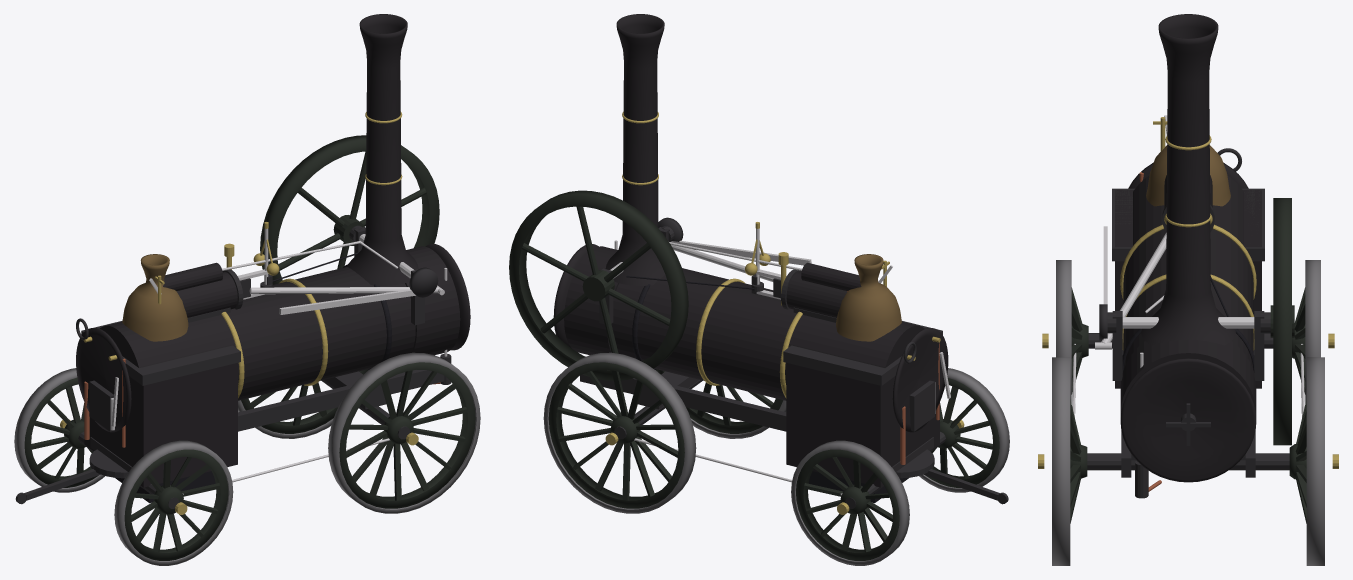
3 renders of one model, left to right at view 1: azimuth 30°, elevation 25°; view 2: azimuth 150°, elevation 25°; view 3: azimuth 270°, elevation 25°, orthographic. The views are drawn at different scales.
Parts seen in each view (by area): view 1: BoilerBarrel, SmokeboxDoor; view 2: BoilerBarrel, SmokeboxDoor; view 3: SmokeboxDoor, BoilerBarrel.
Part boxes in pixels (box(x1,y1,x2,y2)): BoilerBarrel: box(15, 111, 467, 552); SmokeboxDoor: box(14, 14, 480, 565); BoilerBarrel: box(522, 111, 1008, 552); SmokeboxDoor: box(509, 14, 1009, 565); SmokeboxDoor: box(1052, 14, 1324, 565); BoilerBarrel: box(1038, 115, 1338, 523).
Size of the model in its own units: 4.65 by 4.27 by 2.12.
2 materials, 2 textured.
